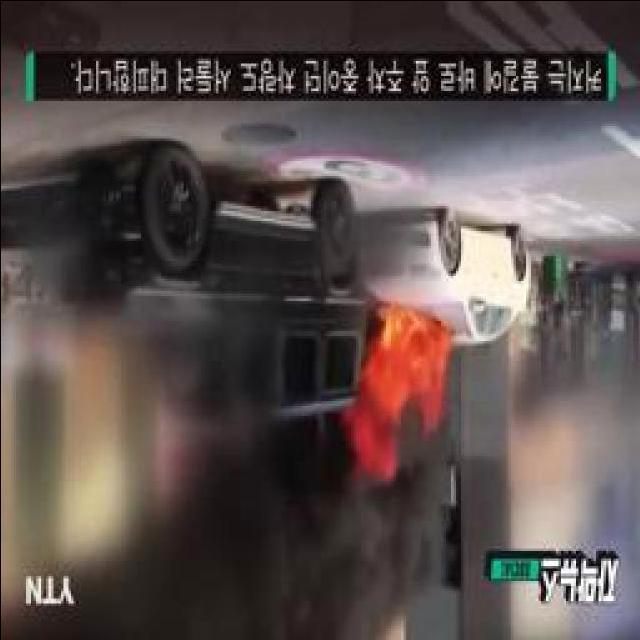Fire: (356, 310, 442, 462)
